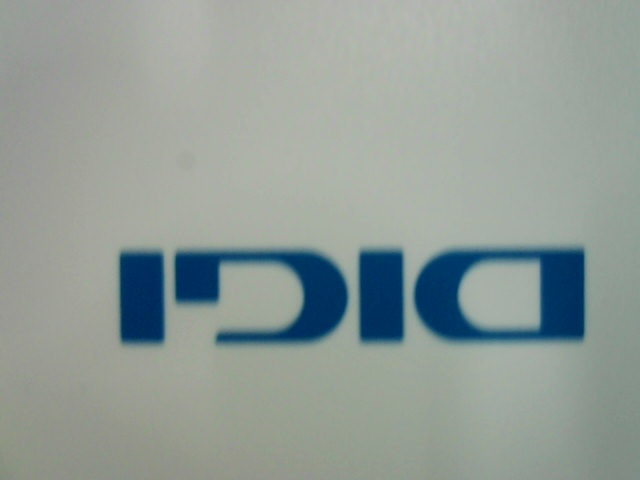BL_DIGI: (97, 237, 595, 351)
